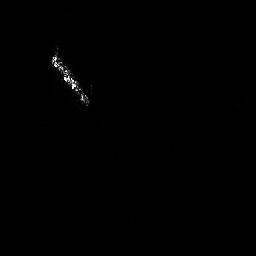ship: (47, 48, 94, 109)
